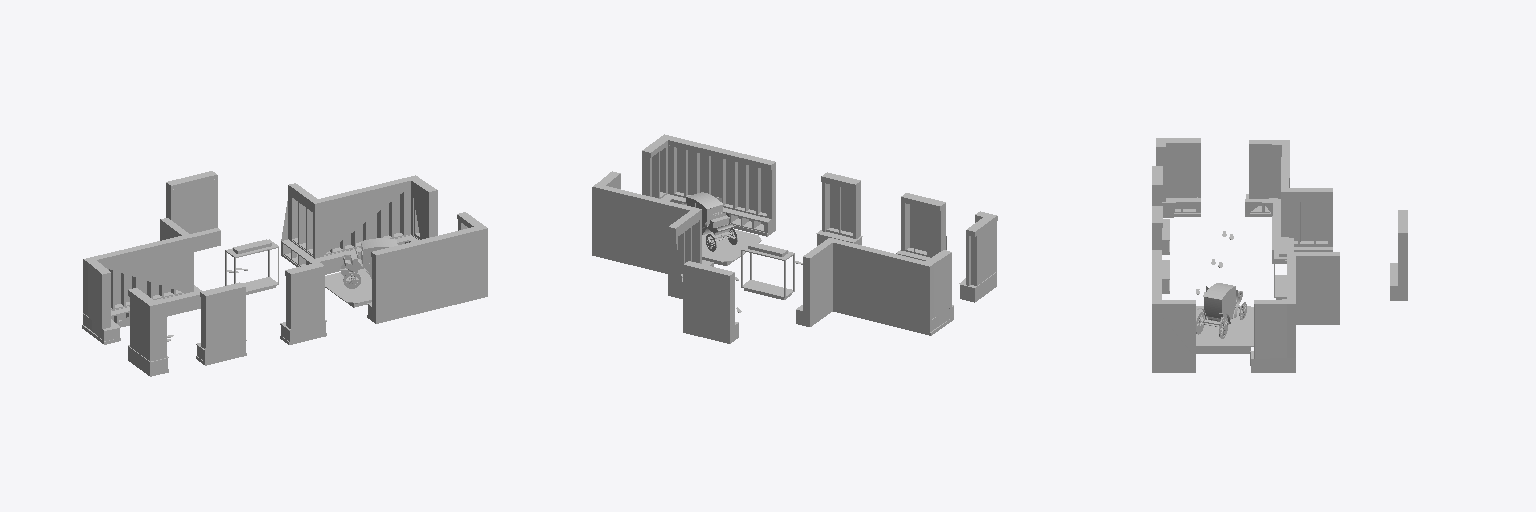
The model's file is PLAN.obj.
The picture shows the model from 3 angles: view 1: azimuth 30°, elevation 25°; view 2: azimuth 150°, elevation 25°; view 3: azimuth 270°, elevation 25°; orthographic projection.
Parts seen in each view (by area): view 1: Mesh1 Group2 Group1 Model, Mesh79 Group1 Model, Mesh67 Group40 Group1 Model, Mesh80 Group1 Model, Mesh11 Group4 Group1 Model, Mesh81 Group1 Model, Mesh74 Group1 Model, Mesh12 Group6 Group5 Group1 Model, Mesh50 Group7 Group5 Group1 Model, Mesh82 Group1 Model; view 2: Mesh67 Group40 Group1 Model, Mesh79 Group1 Model, Mesh1 Group2 Group1 Model, Mesh11 Group4 Group1 Model, Mesh80 Group1 Model, Mesh81 Group1 Model, Mesh74 Group1 Model, Mesh50 Group7 Group5 Group1 Model, Mesh12 Group6 Group5 Group1 Model, Mesh82 Group1 Model; view 3: Mesh67 Group40 Group1 Model, Mesh1 Group2 Group1 Model, Mesh79 Group1 Model, Mesh74 Group1 Model, Mesh12 Group6 Group5 Group1 Model, Mesh50 Group7 Group5 Group1 Model, Mesh11 Group4 Group1 Model, Mesh81 Group1 Model, Mesh80 Group1 Model, Mesh83 Group1 Model.
Part boxes in pixels (bbox=[...]): Mesh1 Group2 Group1 Model: bbox=[281, 175, 437, 274]; Mesh79 Group1 Model: bbox=[367, 212, 487, 323]; Mesh67 Group40 Group1 Model: bbox=[82, 218, 201, 344]; Mesh80 Group1 Model: bbox=[196, 282, 246, 365]; Mesh11 Group4 Group1 Model: bbox=[166, 171, 220, 251]; Mesh81 Group1 Model: bbox=[280, 262, 326, 344]; Mesh74 Group1 Model: bbox=[128, 288, 168, 376]; Mesh12 Group6 Group5 Group1 Model: bbox=[325, 269, 371, 307]; Mesh50 Group7 Group5 Group1 Model: bbox=[343, 238, 397, 278]; Mesh82 Group1 Model: bbox=[225, 239, 278, 292]; Mesh67 Group40 Group1 Model: bbox=[796, 238, 953, 335]; Mesh79 Group1 Model: bbox=[642, 134, 775, 236]; Mesh1 Group2 Group1 Model: bbox=[592, 171, 713, 298]; Mesh11 Group4 Group1 Model: bbox=[683, 261, 738, 343]; Mesh80 Group1 Model: bbox=[896, 193, 946, 260]; Mesh81 Group1 Model: bbox=[816, 172, 862, 245]; Mesh74 Group1 Model: bbox=[959, 211, 997, 302]; Mesh50 Group7 Group5 Group1 Model: bbox=[686, 192, 733, 235]; Mesh12 Group6 Group5 Group1 Model: bbox=[702, 229, 761, 265]; Mesh82 Group1 Model: bbox=[741, 242, 794, 297]; Mesh67 Group40 Group1 Model: bbox=[1245, 140, 1332, 263]; Mesh1 Group2 Group1 Model: bbox=[1250, 252, 1339, 365]; Mesh79 Group1 Model: bbox=[1152, 250, 1195, 372]; Mesh74 Group1 Model: bbox=[1156, 138, 1200, 217]; Mesh12 Group6 Group5 Group1 Model: bbox=[1196, 306, 1253, 353]; Mesh50 Group7 Group5 Group1 Model: bbox=[1197, 283, 1242, 328]; Mesh11 Group4 Group1 Model: bbox=[1390, 210, 1407, 300]; Mesh81 Group1 Model: bbox=[1152, 206, 1169, 293]; Mesh80 Group1 Model: bbox=[1152, 166, 1169, 254]; Mesh83 Group1 Model: bbox=[1251, 358, 1295, 372].
Bounding box in the file's own units: 22.13 × 4.51 × 14.55.